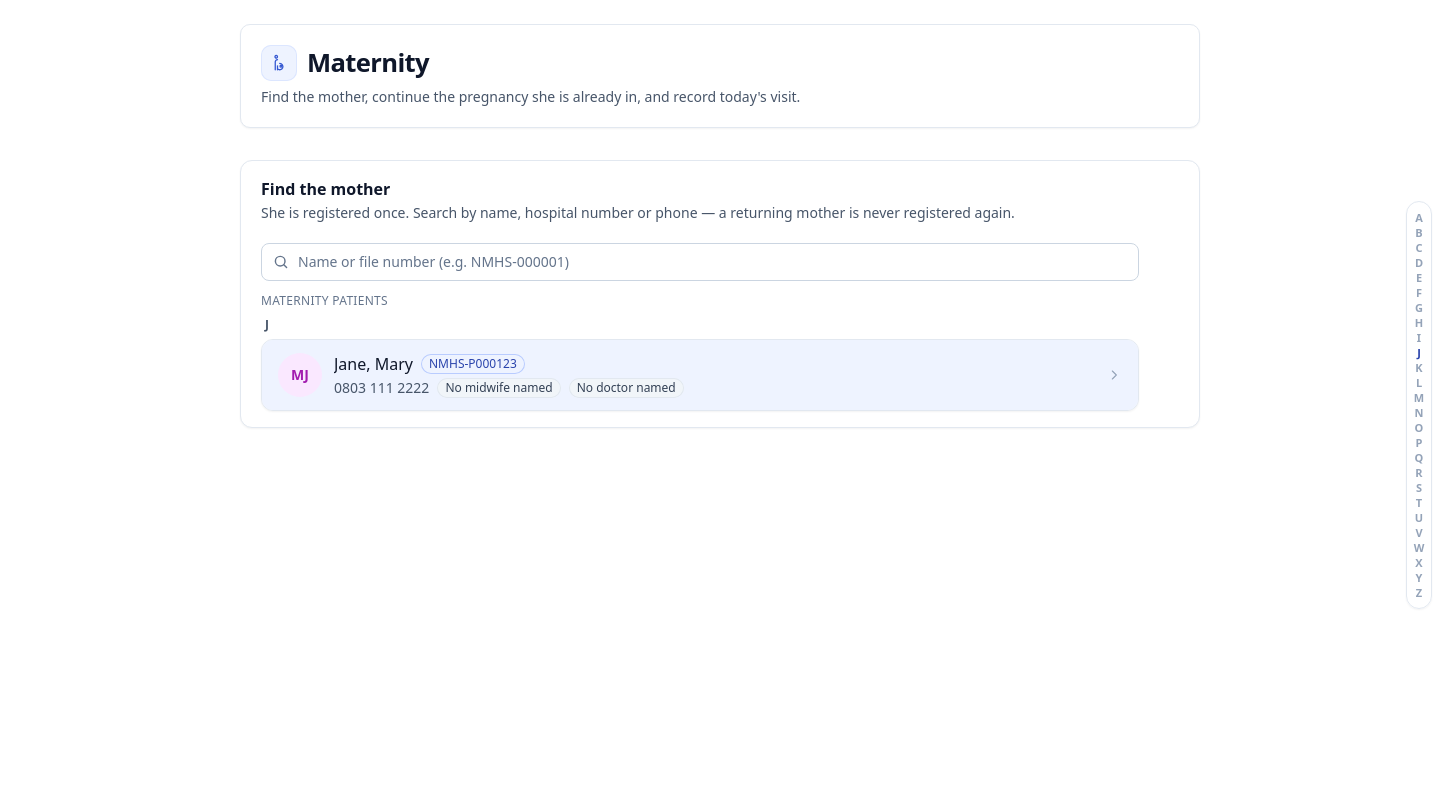
Test: finding a returning mother › offers Start and never Continue when she has no active pregnancy
The image size is (1440, 810).
Click the dropdown named "Search maternity patients".
click(700, 262)  # box [261, 243, 1139, 281]
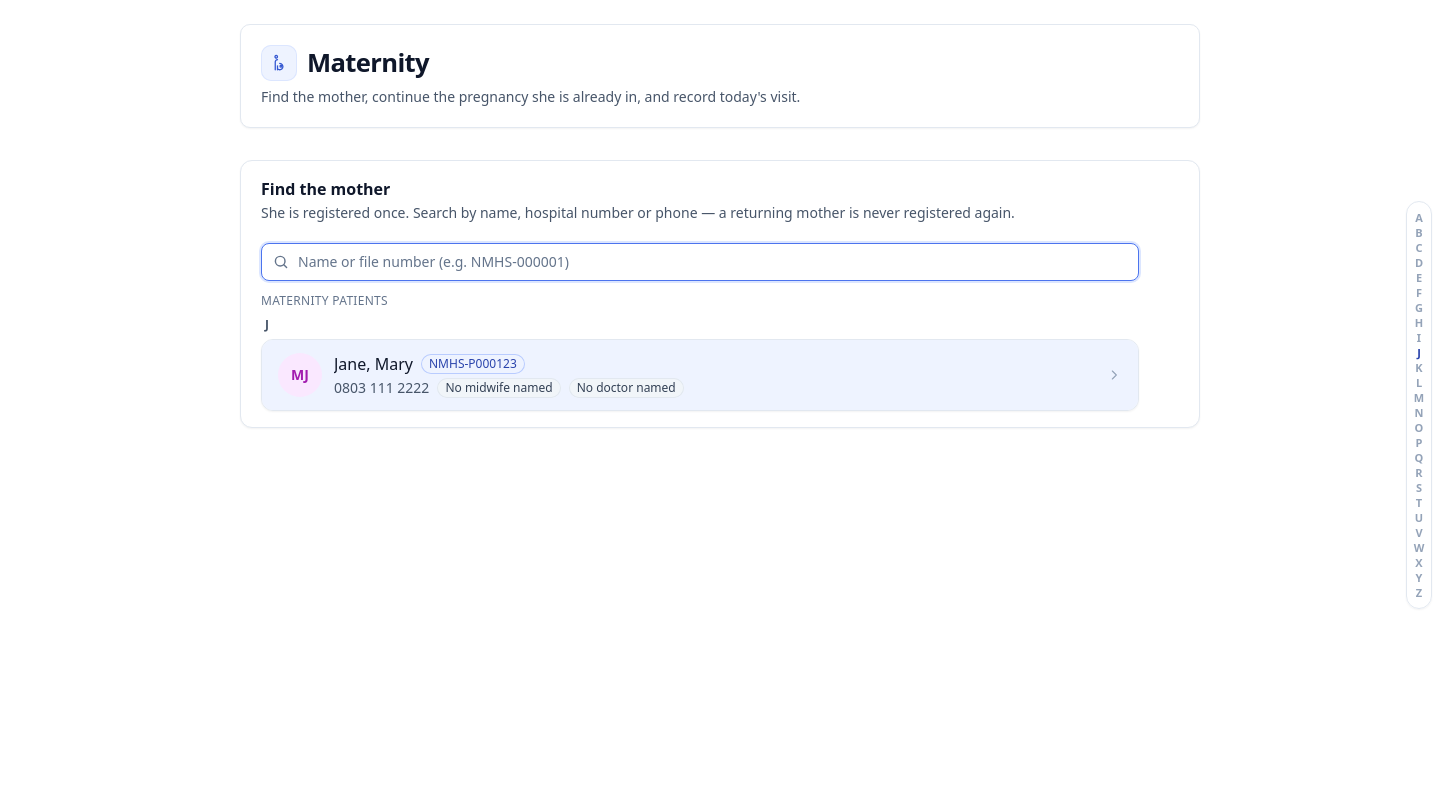
Click the option "Jane, Mary".
click(300, 375)  # box [262, 340, 1138, 410]
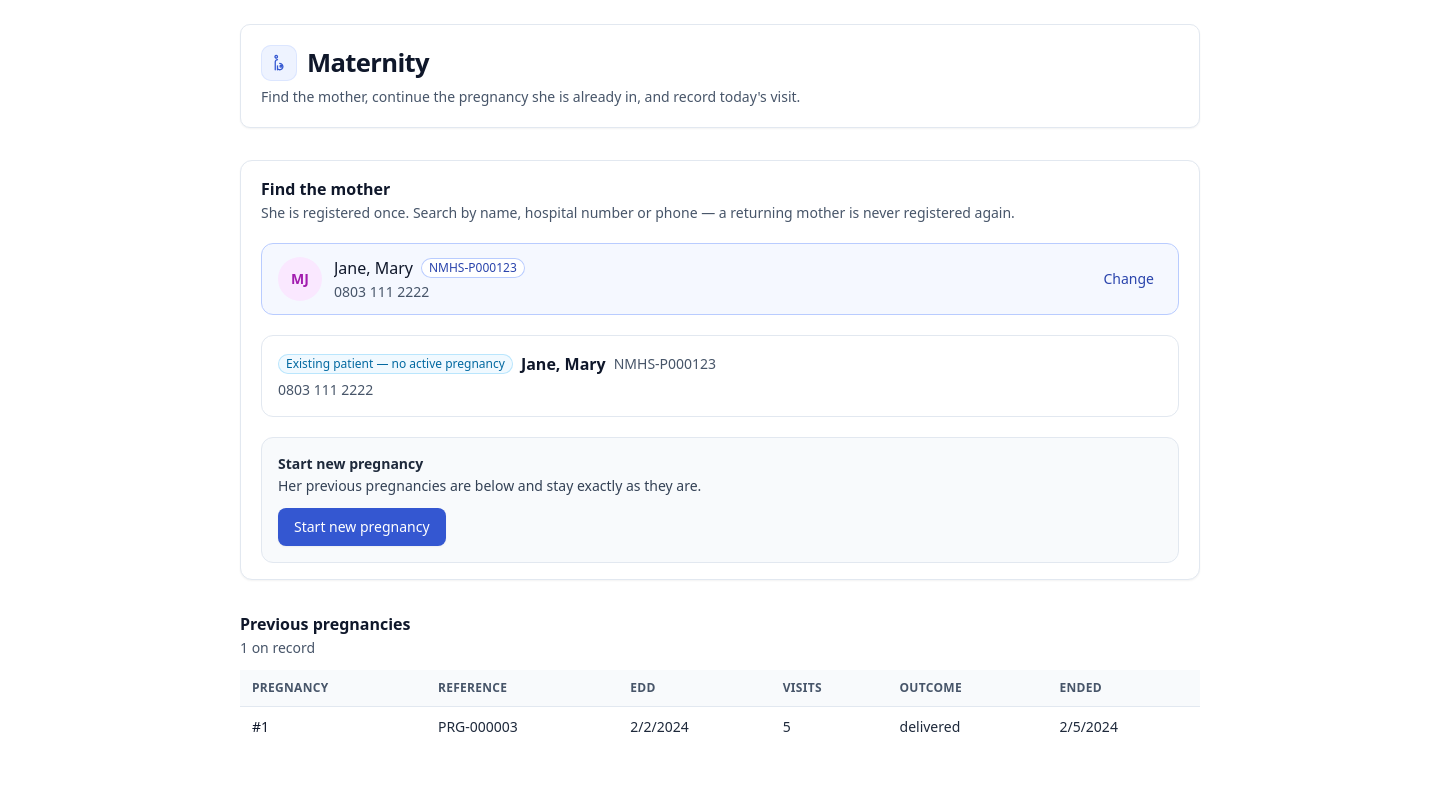
Check: the text "Existing patient — no active pregnancy" is shown, box [278, 354, 513, 374]
Check: the button "Start new pregnancy" is shown, box [278, 508, 446, 546]
